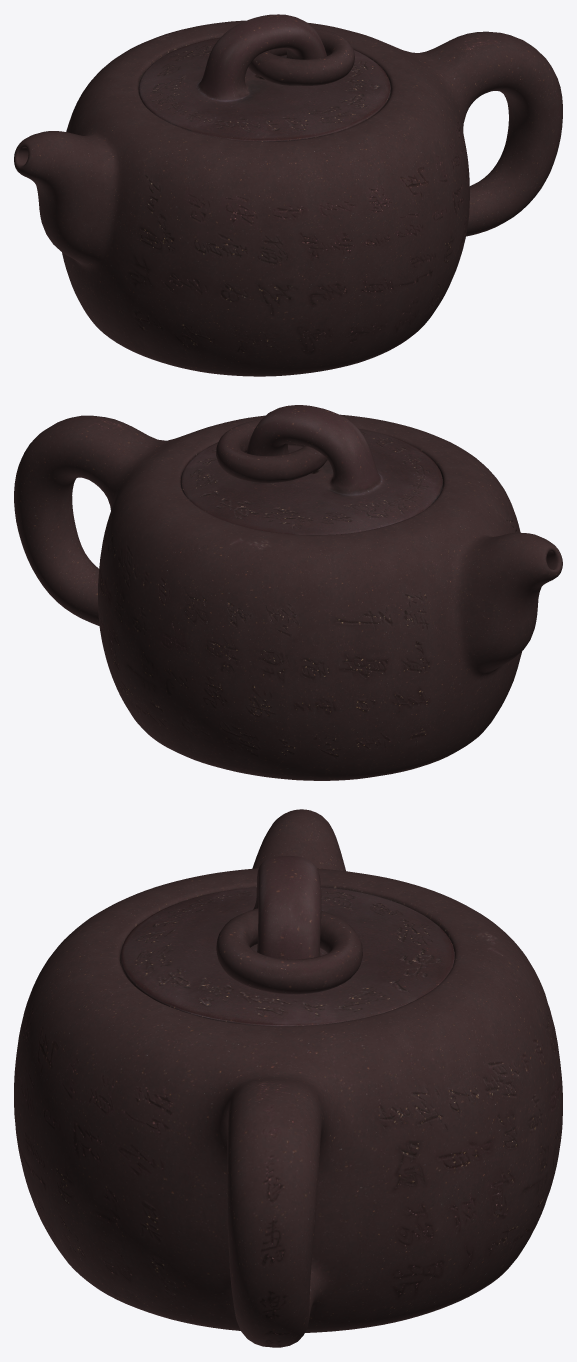
The model's file is baozhiqiang.obj.
3 renders of one model, top to bottom at view 1: azimuth 30°, elevation 25°; view 2: azimuth 150°, elevation 25°; view 3: azimuth 270°, elevation 25°, orthographic. The views are drawn at different scales.
Parts seen in each view (by area): view 1: ____002, ____005; view 2: ____002, ____005; view 3: ____002, ____005.
Part boxes in pixels (x1,y1,x2,y2): ____002: (14, 20, 562, 376); ____005: (138, 14, 390, 141); ____002: (14, 414, 562, 780); ____005: (181, 405, 442, 534); ____002: (14, 809, 562, 1347); ____005: (120, 856, 454, 1026).
Bounding box in the file's own units: 19.52 × 10.07 × 13.25.
5 materials, 5 textured.
